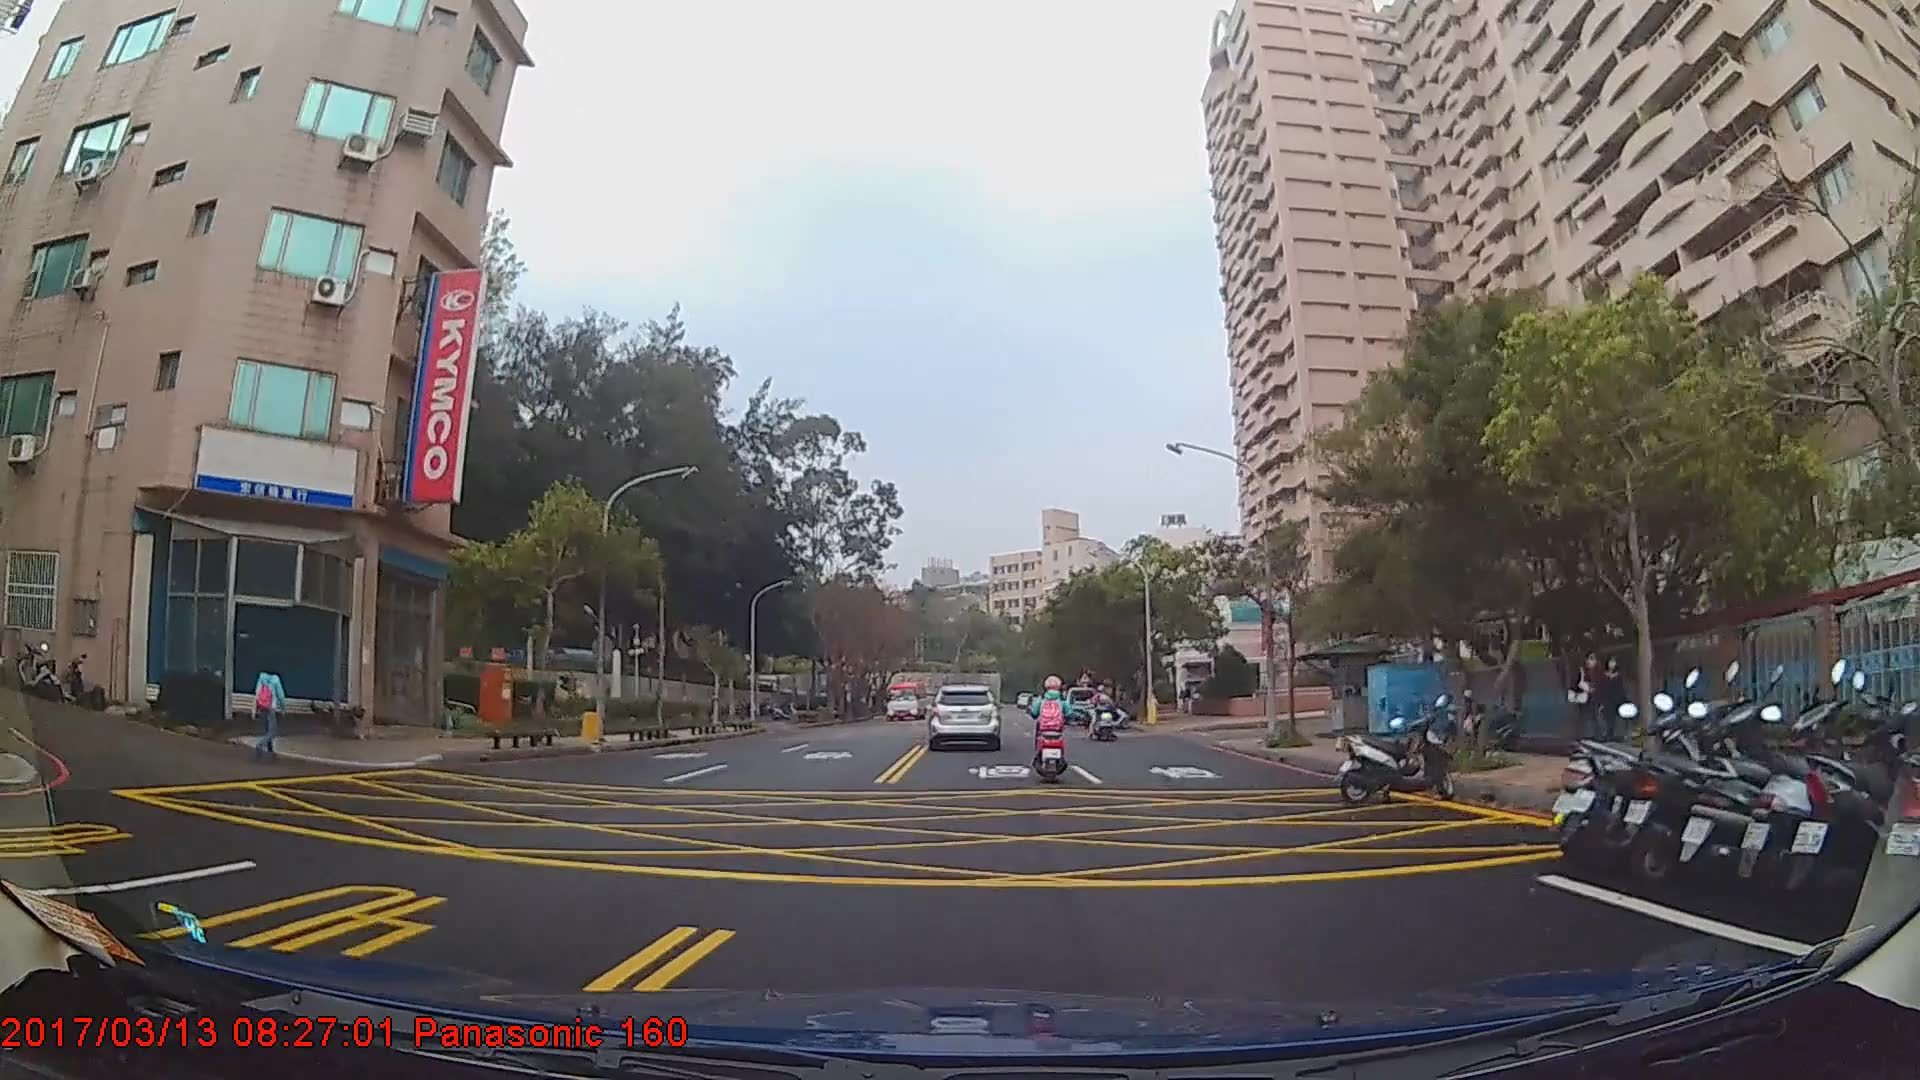pedestrian: (1565, 650, 1609, 759), (1593, 653, 1629, 761), (254, 653, 287, 762)
rider: (1028, 677, 1072, 786), (1087, 684, 1116, 737)
vehicle: (925, 684, 999, 749), (882, 678, 928, 720)
